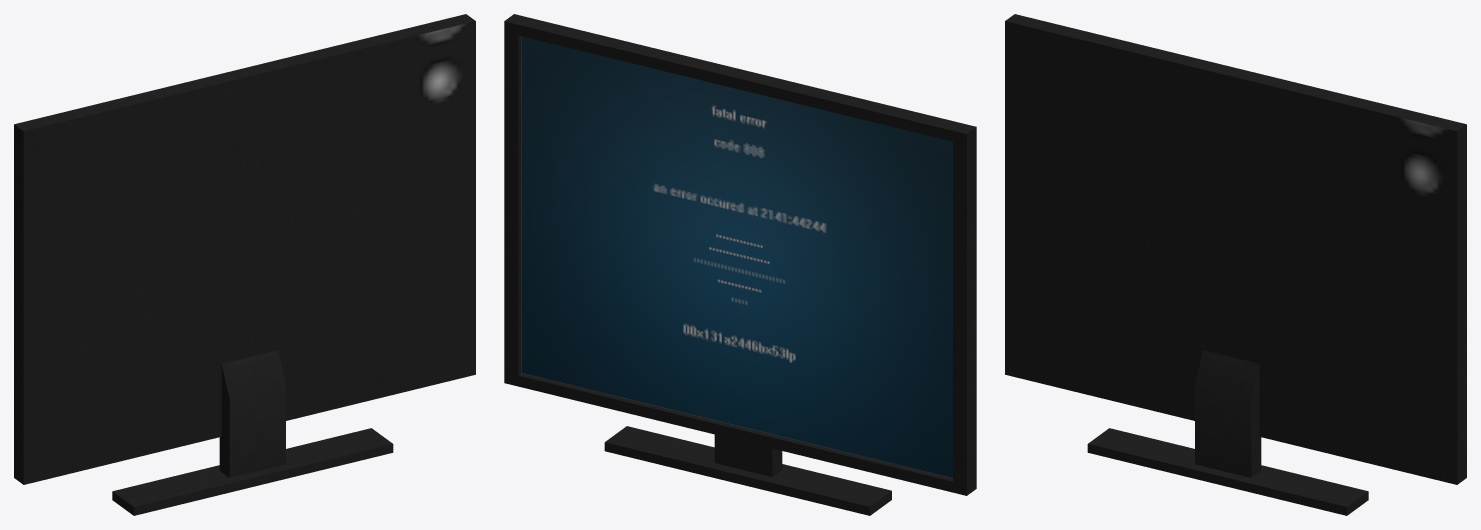
The model's file is Monitor 1.fbx.
3 renders of one model, left to right at view 1: azimuth 30°, elevation 25°; view 2: azimuth 150°, elevation 25°; view 3: azimuth 330°, elevation 25°, orthographic. The views are drawn at different scales.
Visible parts, largest first — view 1: Monitor_1; view 2: Monitor_1; view 3: Monitor_1.
Boxes of the visible parts, x1,y1,x2,y2 form: Monitor_1: (14, 14, 475, 515); Monitor_1: (504, 14, 976, 515); Monitor_1: (1005, 14, 1466, 515).
Bounding box in the file's own units: 0.5322 × 0.4477 × 0.0478.
